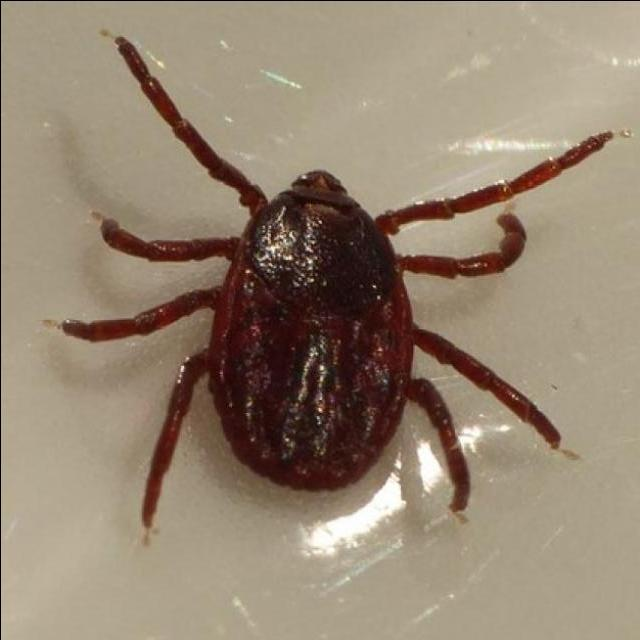Rhipicephalus Sanguineus-F: (55, 37, 610, 532)
